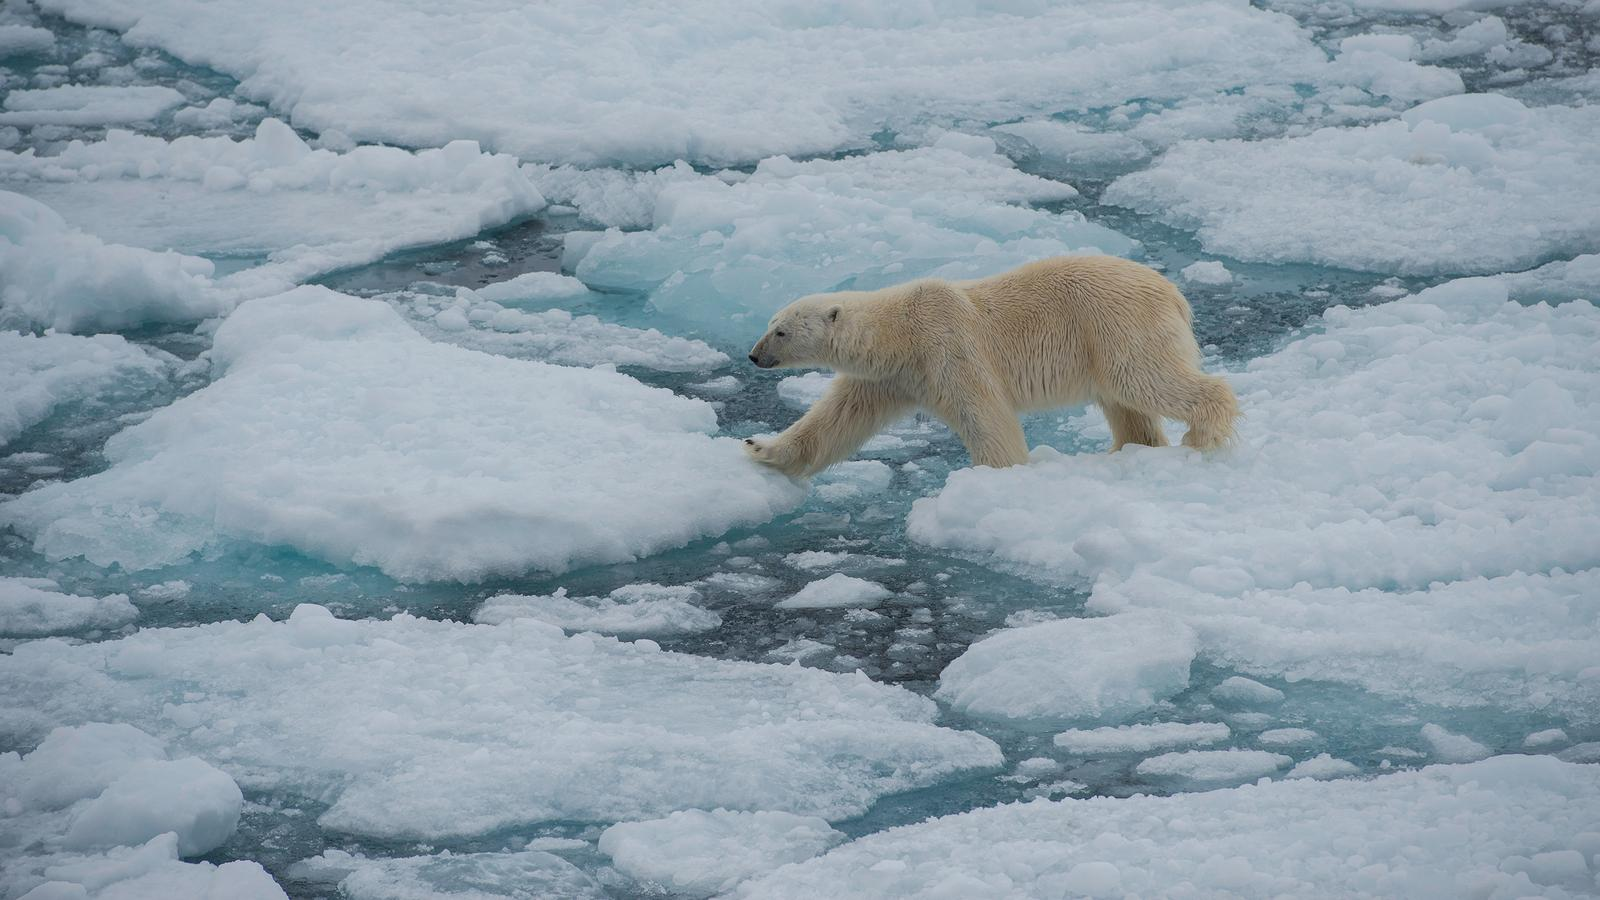Polar Bear: (714, 247, 1280, 491)
